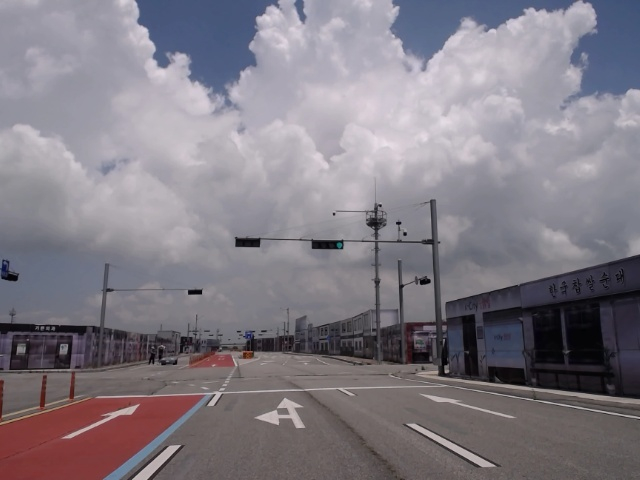straight_green_4: (310, 240, 343, 251)
